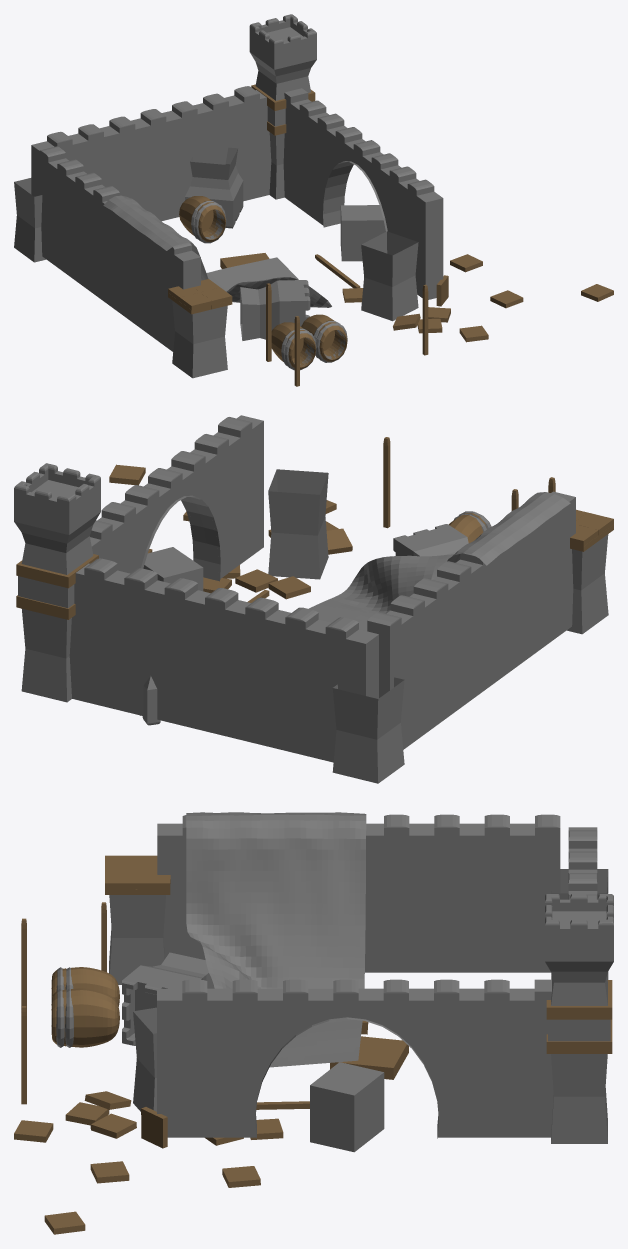
The model's file is castelo quebrado.fbx.
3 renders of one model, top to bottom at view 1: azimuth 30°, elevation 25°; view 2: azimuth 150°, elevation 25°; view 3: azimuth 270°, elevation 25°, orthographic. The views are drawn at different scales.
Visible parts, largest first — view 1: muros laterais, muro fundo, muro frontal, torre.001, torre_cell.003, pano, torre_cell.008, torre_cell.007, barris, torre_cell.002, torre_cell.004, torre_cell.001 (+2 smaller); view 2: muros laterais, muro fundo, muro frontal, torre.001, pano, torre_cell.003, torre_cell.001, torre_cell.008, torre_cell.007, torre_cell.004, pilastras, barris (+5 smaller); view 3: muro frontal, pano, muro fundo, torre.001, torre_cell.004, barris, torre_cell.008, torre_cell.007, torre_cell.003, muros laterais, torre_cell.014, pilastras (+11 smaller).
Boxes of the visible parts, x1=… form: muros laterais: x1=31, y1=86, x2=271, y2=221; muro fundo: x1=39, y1=146, x2=200, y2=351; muro frontal: x1=283, y1=88, x2=443, y2=299; torre.001: x1=249, y1=14, x2=316, y2=199; torre_cell.003: x1=361, y1=231, x2=418, y2=321; pano: x1=103, y1=195, x2=331, y2=307; torre_cell.008: x1=172, y1=300, x2=227, y2=378; torre_cell.007: x1=240, y1=280, x2=310, y2=340; barris: x1=271, y1=314, x2=347, y2=370; torre_cell.002: x1=185, y1=147, x2=243, y2=228; torre_cell.004: x1=340, y1=205, x2=385, y2=261; torre_cell.001: x1=14, y1=178, x2=46, y2=262; muros laterais: x1=69, y1=558, x2=378, y2=762; muro fundo: x1=367, y1=491, x2=575, y2=749; muro frontal: x1=89, y1=415, x2=263, y2=581; torre.001: x1=14, y1=463, x2=100, y2=702; pano: x1=308, y1=492, x2=570, y2=631; torre_cell.003: x1=268, y1=469, x2=328, y2=579; torre_cell.001: x1=332, y1=677, x2=404, y2=783; torre_cell.008: x1=567, y1=534, x2=608, y2=634; torre_cell.007: x1=393, y1=524, x2=468, y2=556; torre_cell.004: x1=143, y1=547, x2=203, y2=591; pilastras: x1=383, y1=437, x2=555, y2=528; barris: x1=448, y1=511, x2=491, y2=542; muro frontal: x1=157, y1=979, x2=553, y2=1138; pano: x1=186, y1=812, x2=366, y2=1067; muro fundo: x1=157, y1=814, x2=560, y2=972; torre.001: x1=545, y1=894, x2=613, y2=1143; torre_cell.004: x1=310, y1=1062, x2=384, y2=1152; barris: x1=51, y1=967, x2=119, y2=1047; torre_cell.008: x1=109, y1=895, x2=165, y2=984; torre_cell.007: x1=122, y1=952, x2=214, y2=1045; torre_cell.003: x1=133, y1=1007, x2=156, y2=1111; muros laterais: x1=568, y1=827, x2=597, y2=899; torre_cell.014: x1=330, y1=1036, x2=408, y2=1079; pilastras: x1=21, y1=902, x2=106, y2=1104.
Bounding box in the file's own units: 2288 × 905 × 2105.
